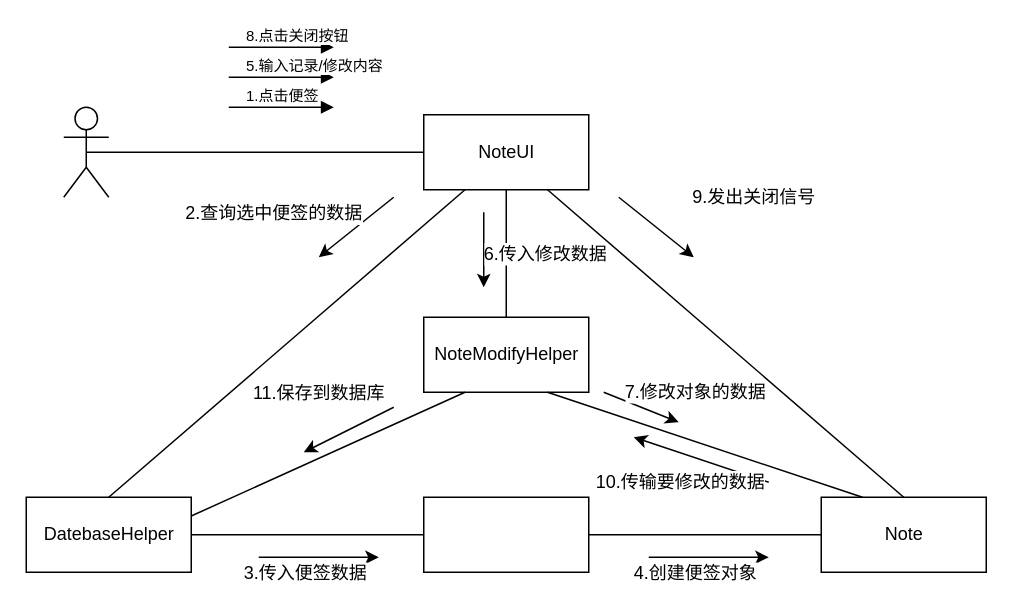
This 1013x609 diagram has some shape labels left out. Each missing label, with the box of its shape:
Actor: (62, 106, 109, 197)
NoteCreateHelper: (422, 496, 589, 572)
